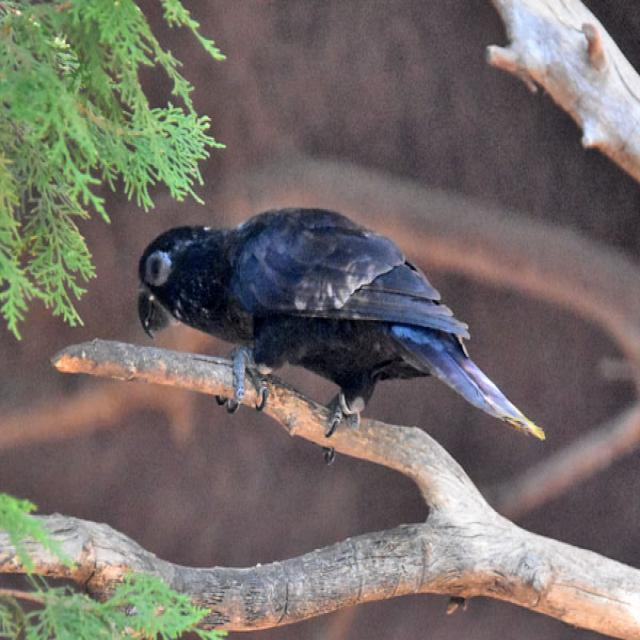Nuri Hitam: (100, 195, 551, 507)
